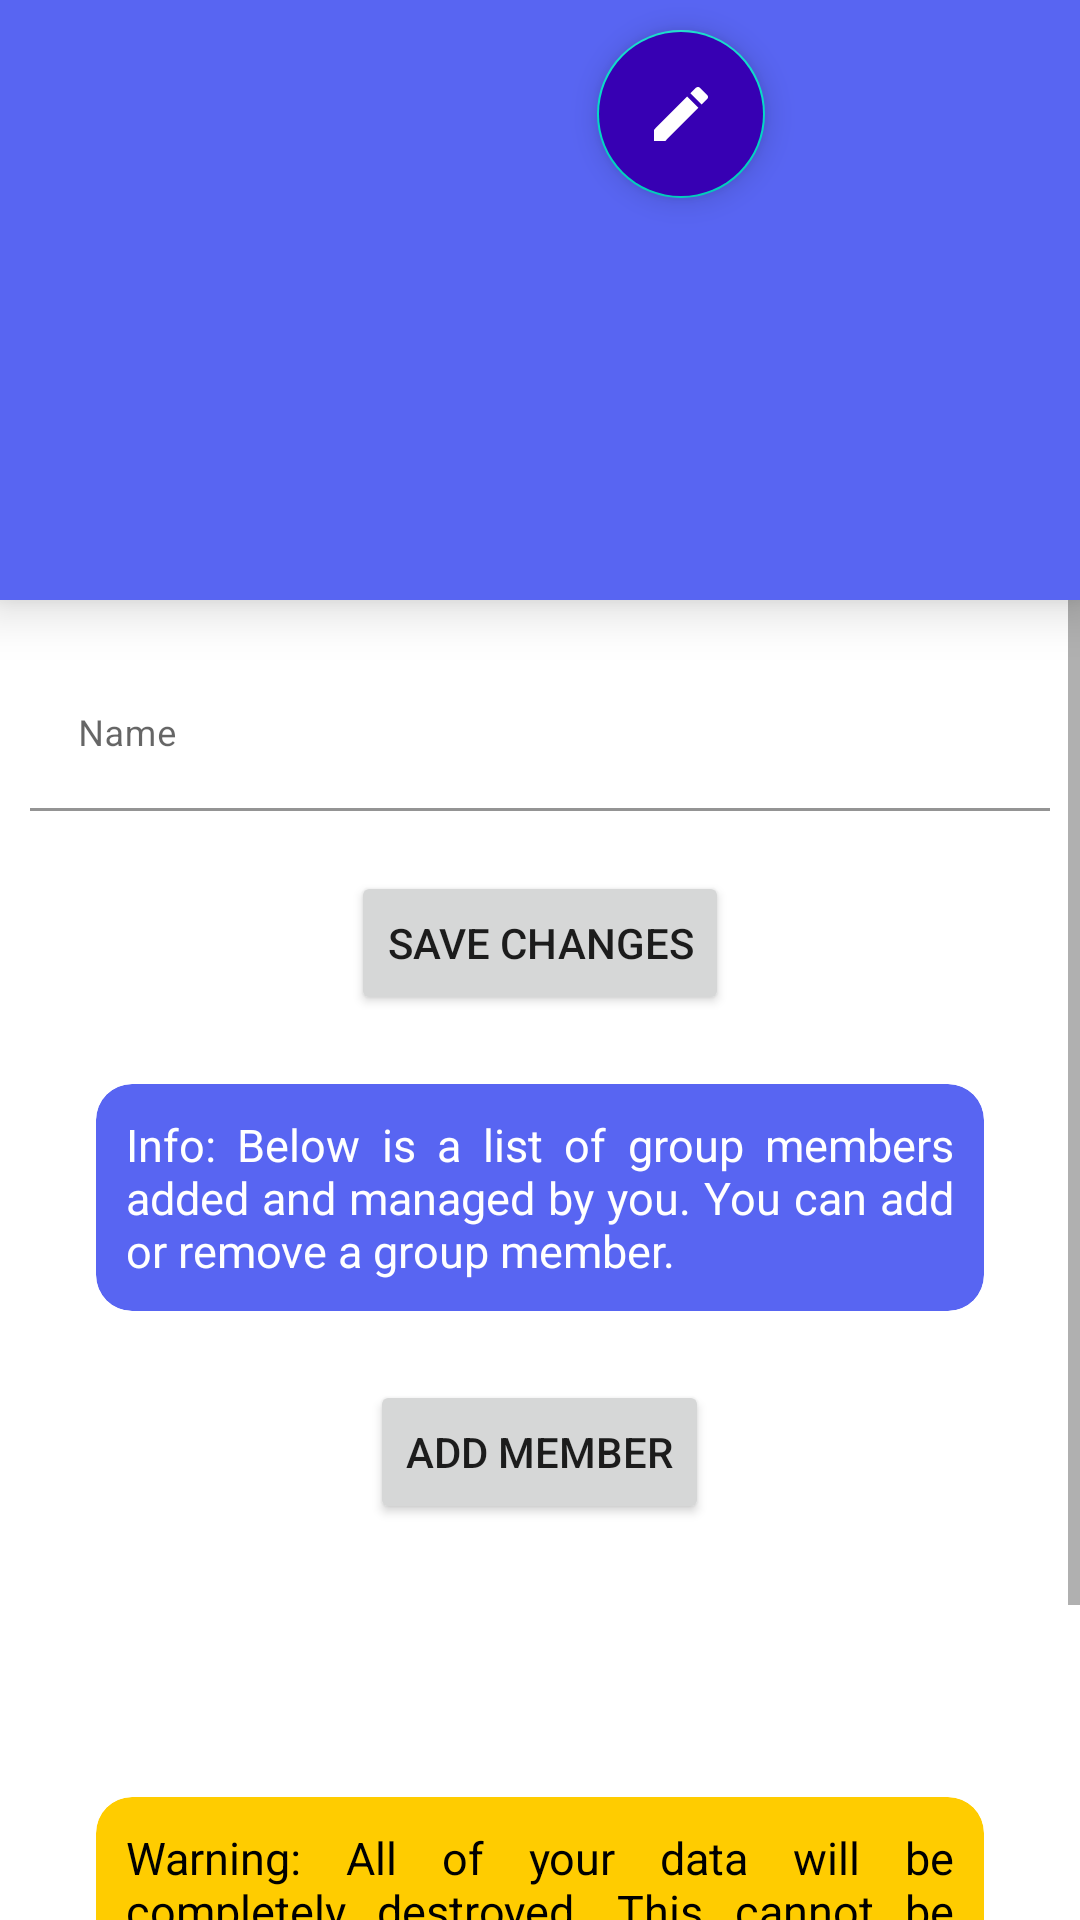

Named icons in this screenshot (1080×1920) and their bounding boxes, (x1, y1, x2, y2):
Edit profile image: (597, 30, 765, 198)
